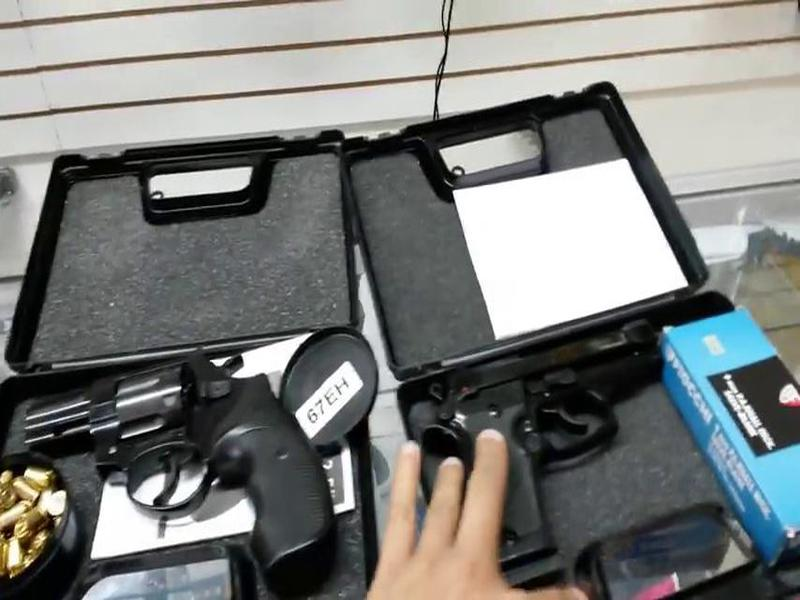Revolver: (15, 335, 358, 579)
